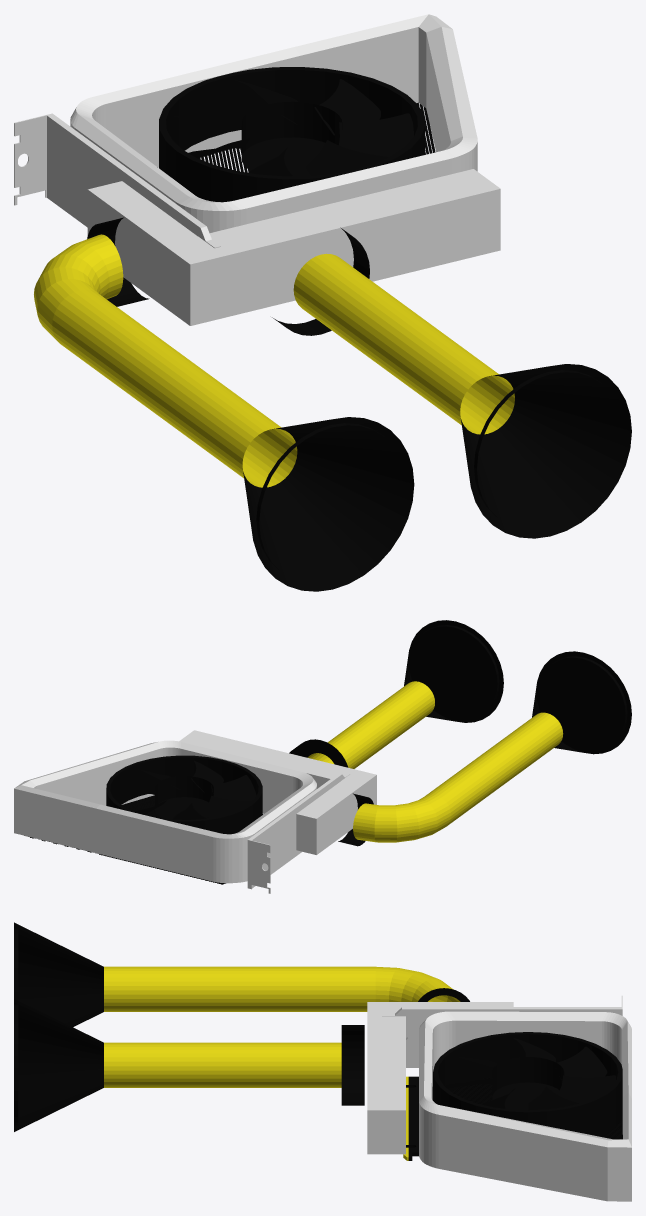
File: pipe.fbx
3 renders of one model, top to bottom at view 1: azimuth 30°, elevation 25°; view 2: azimuth 150°, elevation 25°; view 3: azimuth 270°, elevation 25°, orthographic. The views are drawn at different scales.
Parts seen in each view (by area): view 1: Circle.001, Circle, Cube, grenaj, fan1, tutturma, fan1.002, fan1.001, sogutma; view 2: grenaj, Circle.001, Circle, Cube, fan1, tutturma, fan1.002, fan1.001, sogutma; view 3: grenaj, Circle.001, Circle, fan1, Cube, fan1.002, fan1.001, tutturma, pci, sogutma.
Boxes of the visible parts, x1,y1,x2,y2 form: Circle.001: (34,217,414,591); Circle: (272,227,631,538); Cube: (87,169,500,325); grenaj: (70,14,477,233); fan1: (159,67,424,202); tutturma: (14,113,220,248); fan1.002: (173,79,413,176); fan1.001: (241,101,342,175); sogutma: (157,102,435,172); grenaj: (14,740,316,883); Circle.001: (338,651,631,846); Circle: (289,620,503,768); Cube: (179,730,376,854); fan1: (106,755,262,834); tutturma: (247,773,349,893); fan1.002: (113,760,256,819); fan1.001: (155,776,213,819); sogutma: (24,795,263,884); grenaj: (419,1011,631,1201); Circle.001: (14,922,469,1026); Circle: (14,998,364,1131); fan1: (433,1032,622,1136); Cube: (367,1002,513,1154); fan1.002: (445,1038,615,1110); fan1.001: (492,1057,564,1110); tutturma: (382,995,622,1067); pci: (403,1076,418,1160); sogutma: (432,1077,622,1139).
Size of the model in its own units: 453 by 119 by 549.
